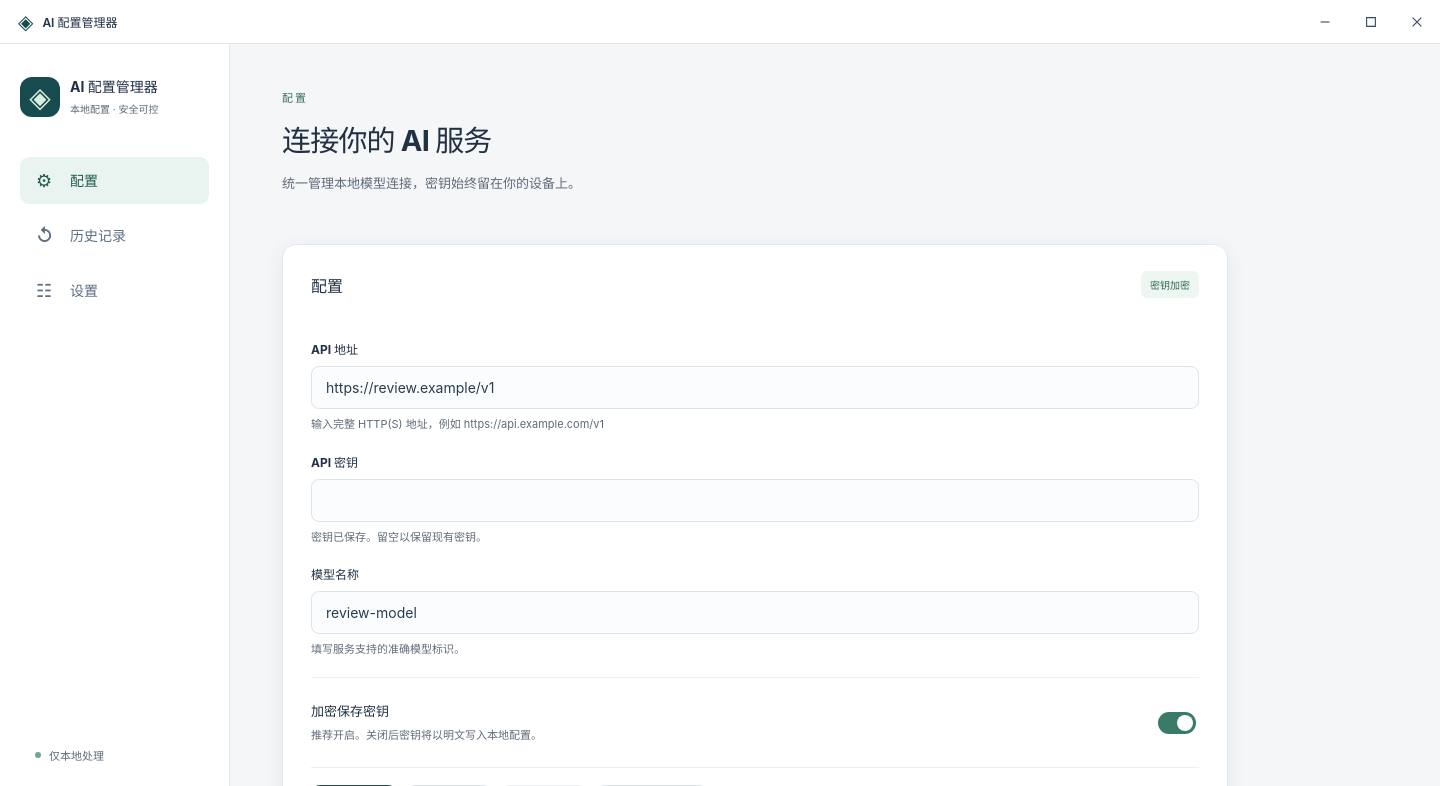
Settings page inventory › previews language immediately without saving and restores the saved language only after confirmed cancel
expect the field showing "https://review.example/v1" is shown: met, box [311,366,1199,409]
Step 1. Click the button "☷ 设置" → (114, 290), box [20,267,209,314]
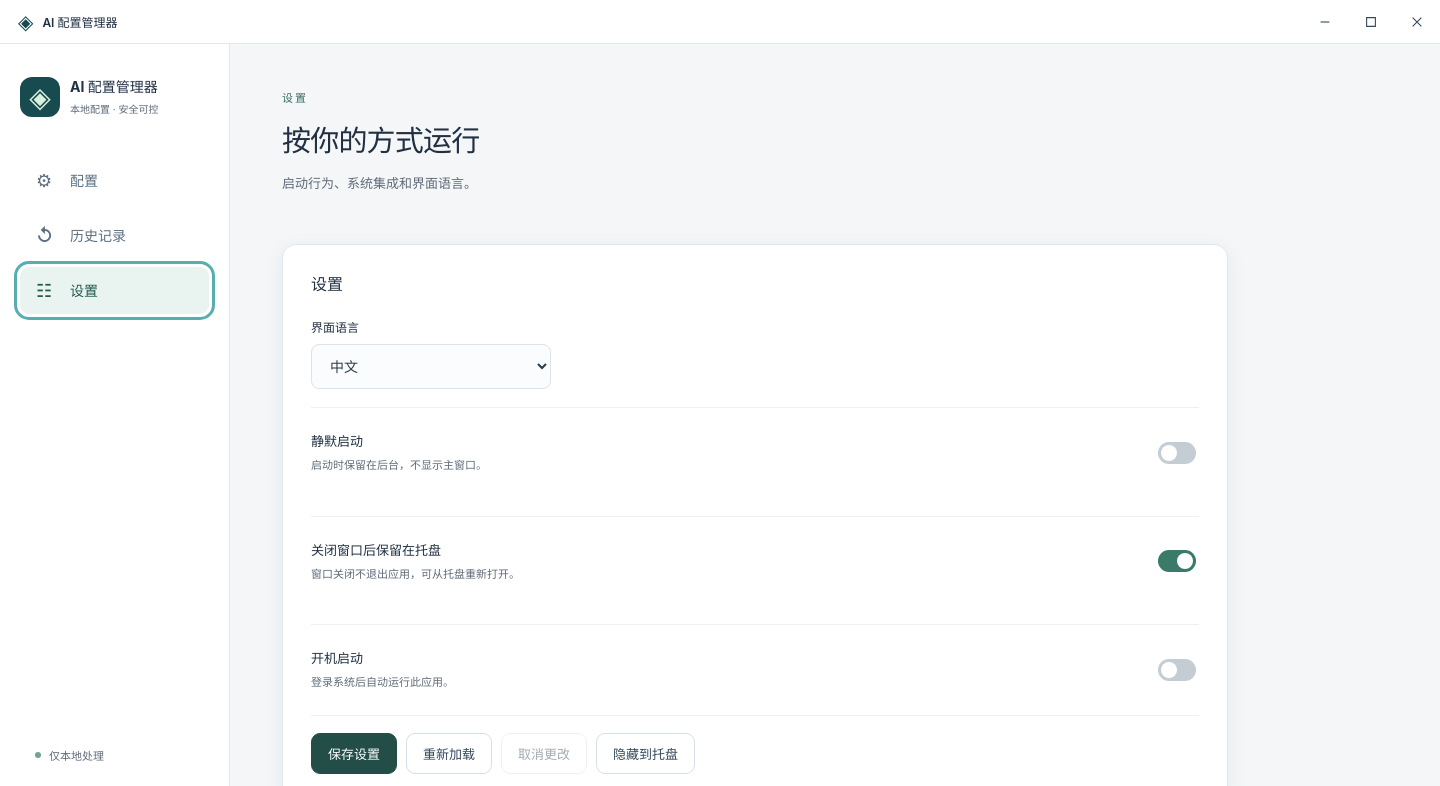
expect the dropdown labelled "界面语言" is shown: met
Step 2. Select "English" in the dropdown labelled "界面语言" → (431, 367), box [311,344,551,389]
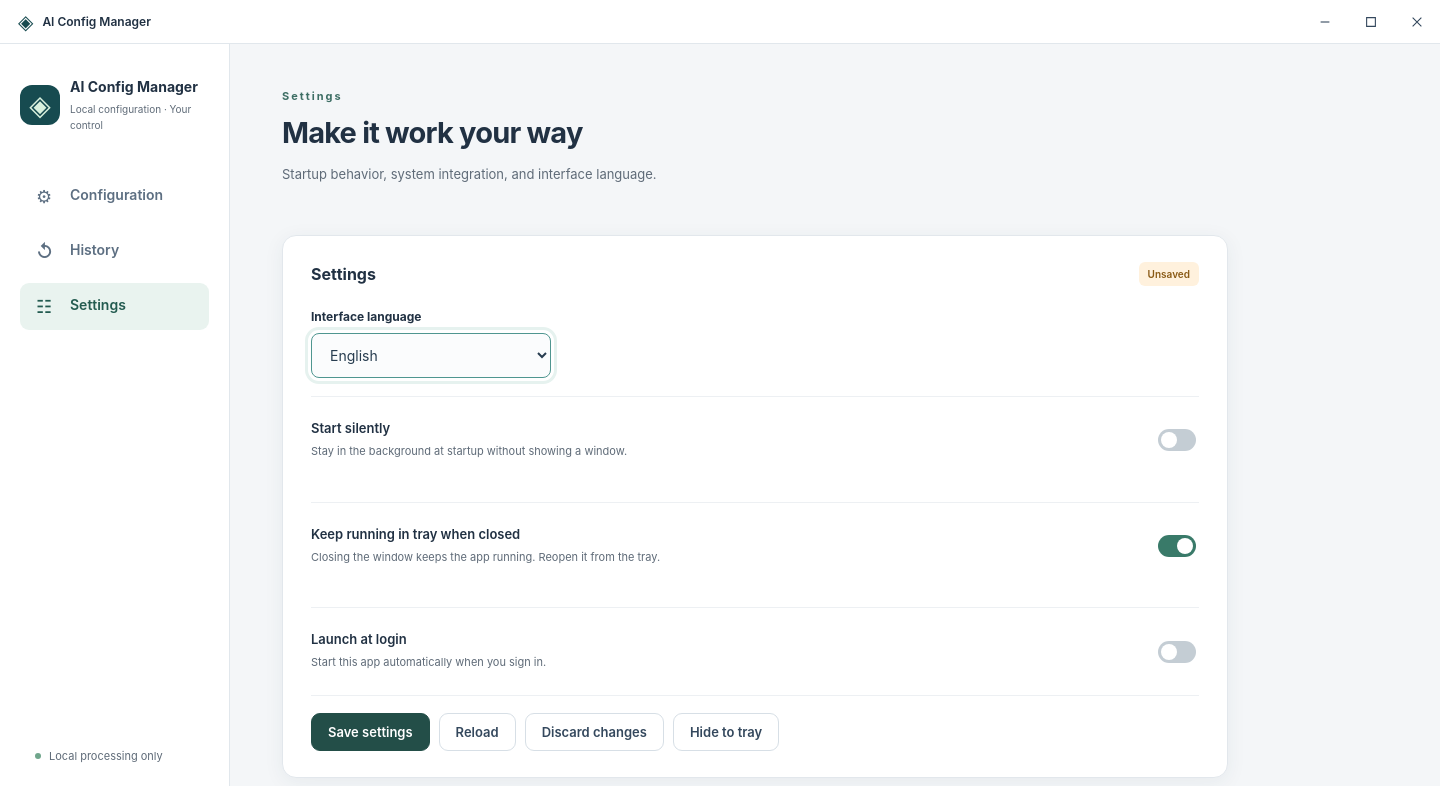
expect the heading "Make it work your way" is shown: met, box [282,115,582,150]
expect the text "Settings" is shown: met, box [282,89,343,103]
expect the button "☷ Settings" is shown: met, box [20,283,209,330]
Step 3. Click the button "Discard changes" → (594, 732), box [525,713,664,751]
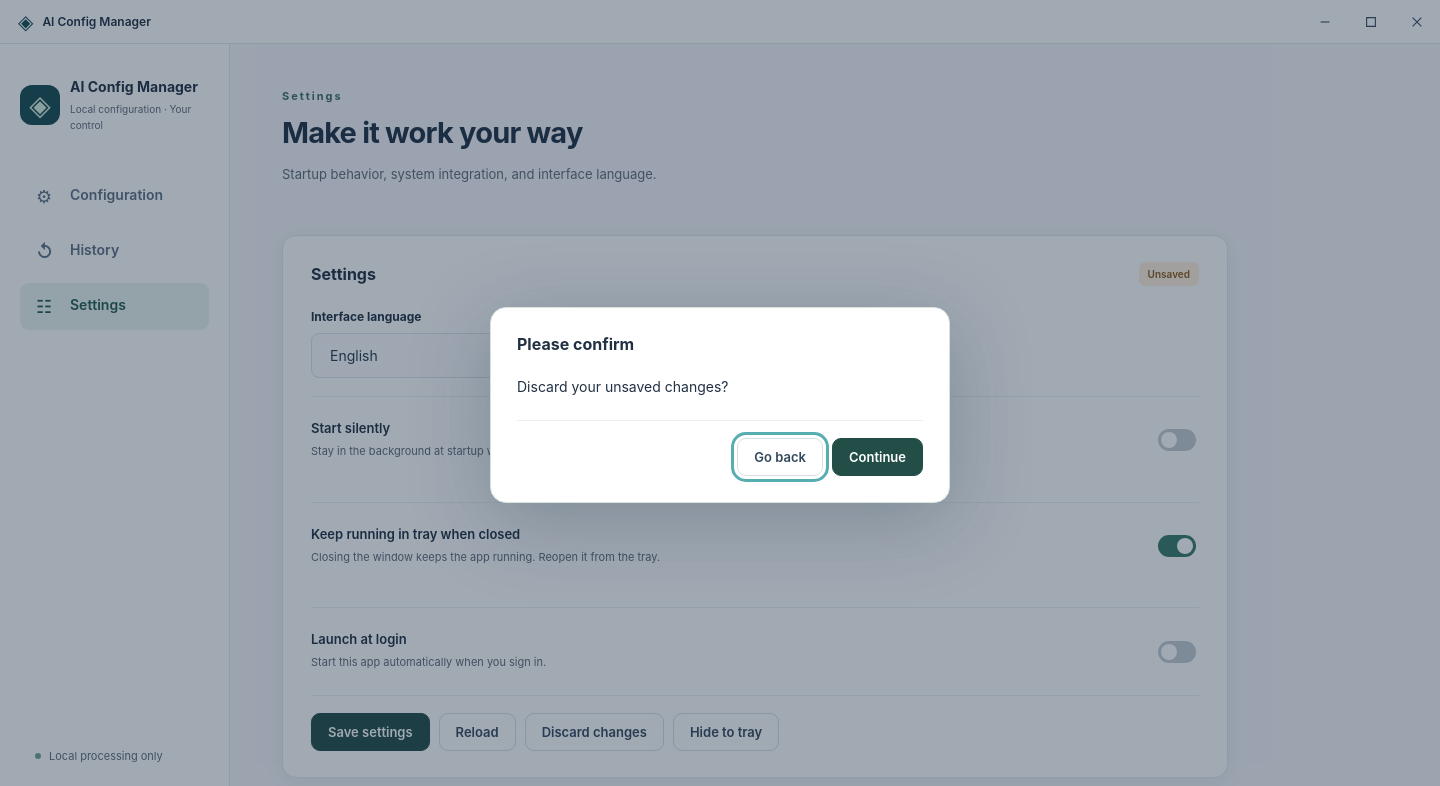
expect the dialog shows "Discard your unsaved changes?": met, box [517,378,728,395]
Step 4. Click the button "Go back" → (780, 457), box [737,438,823,476]
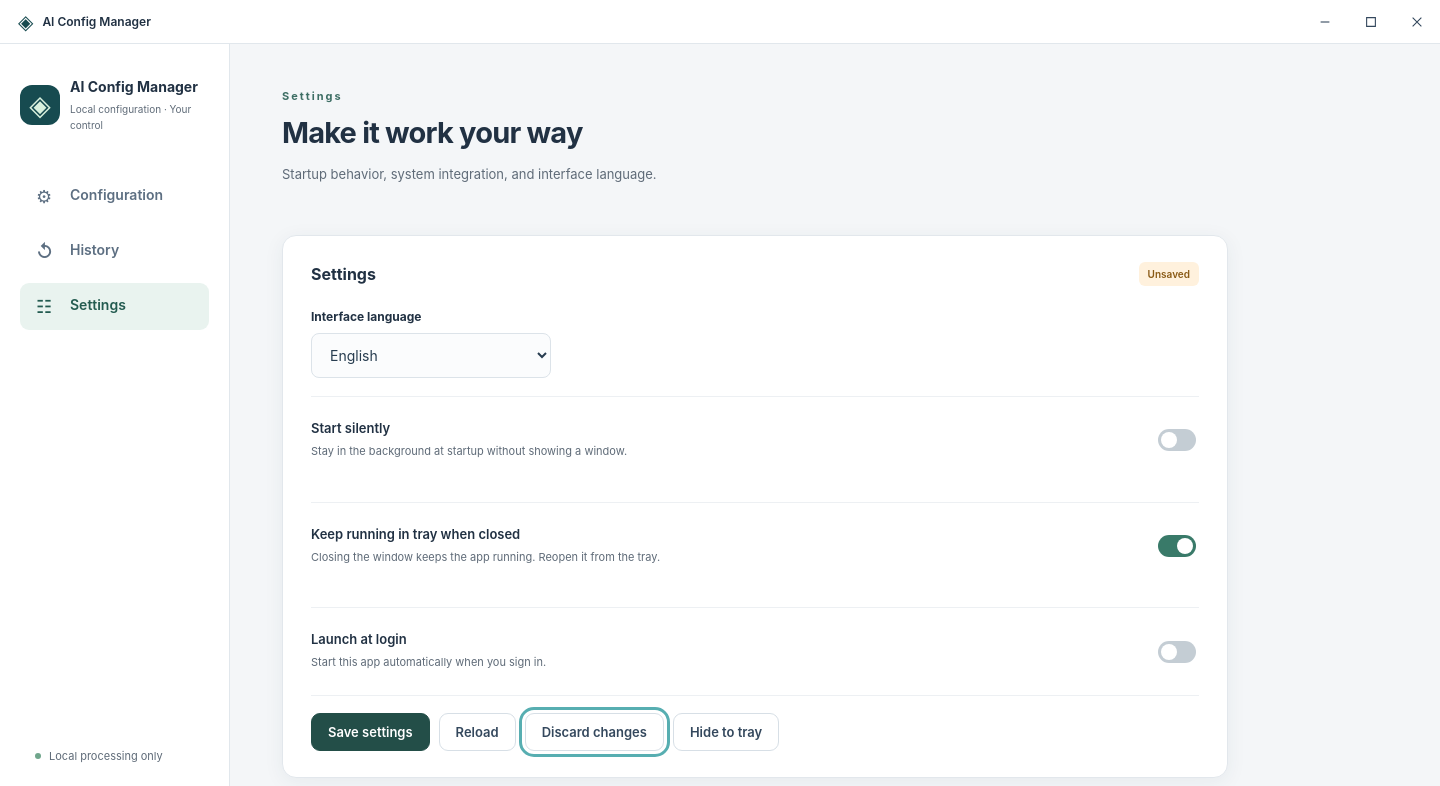
expect the dialog is gone: met
Step 5. Click the button "Discard changes" → (594, 732), box [525,713,664,751]
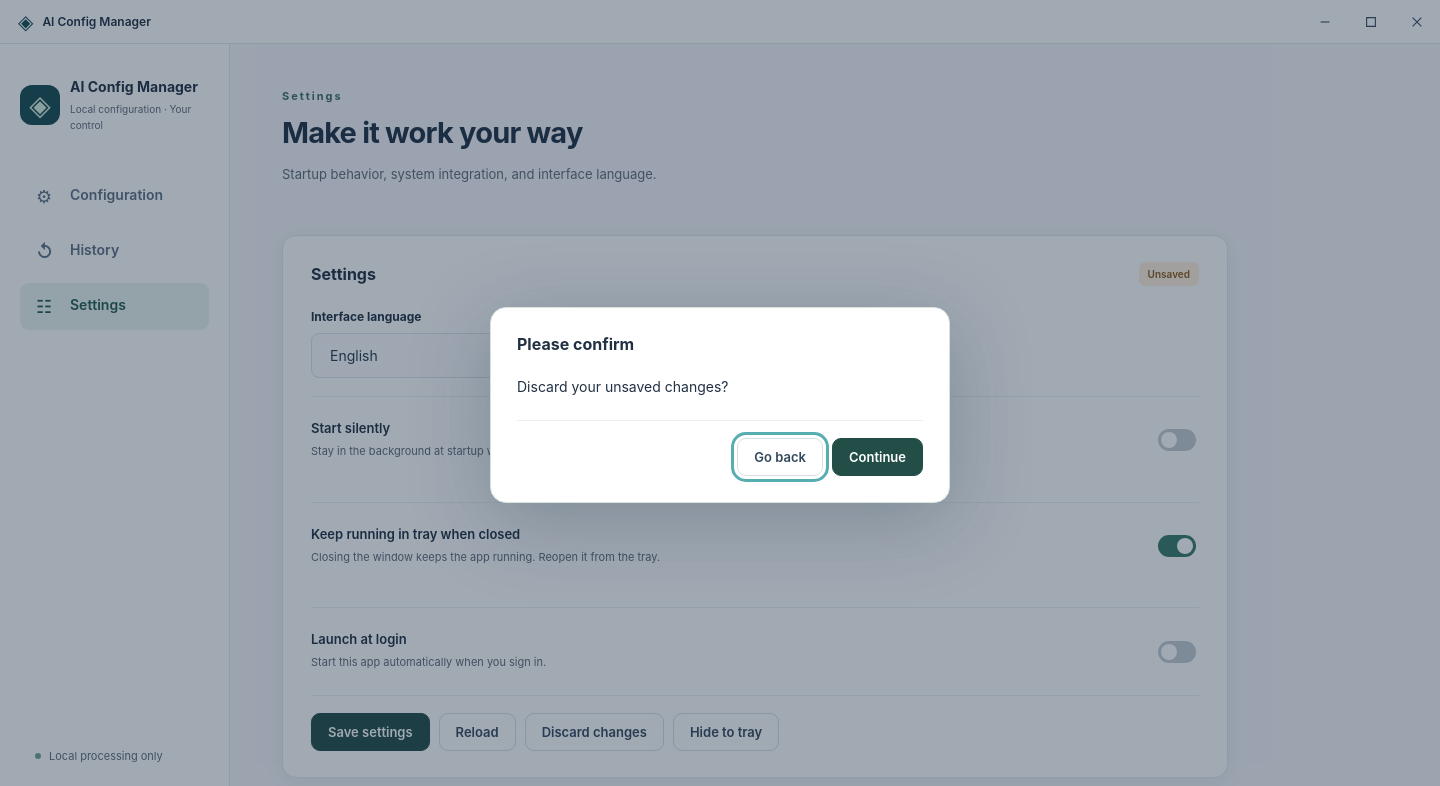
Step 6. Click the button "Continue" → (878, 457), box [832,438,923,476]
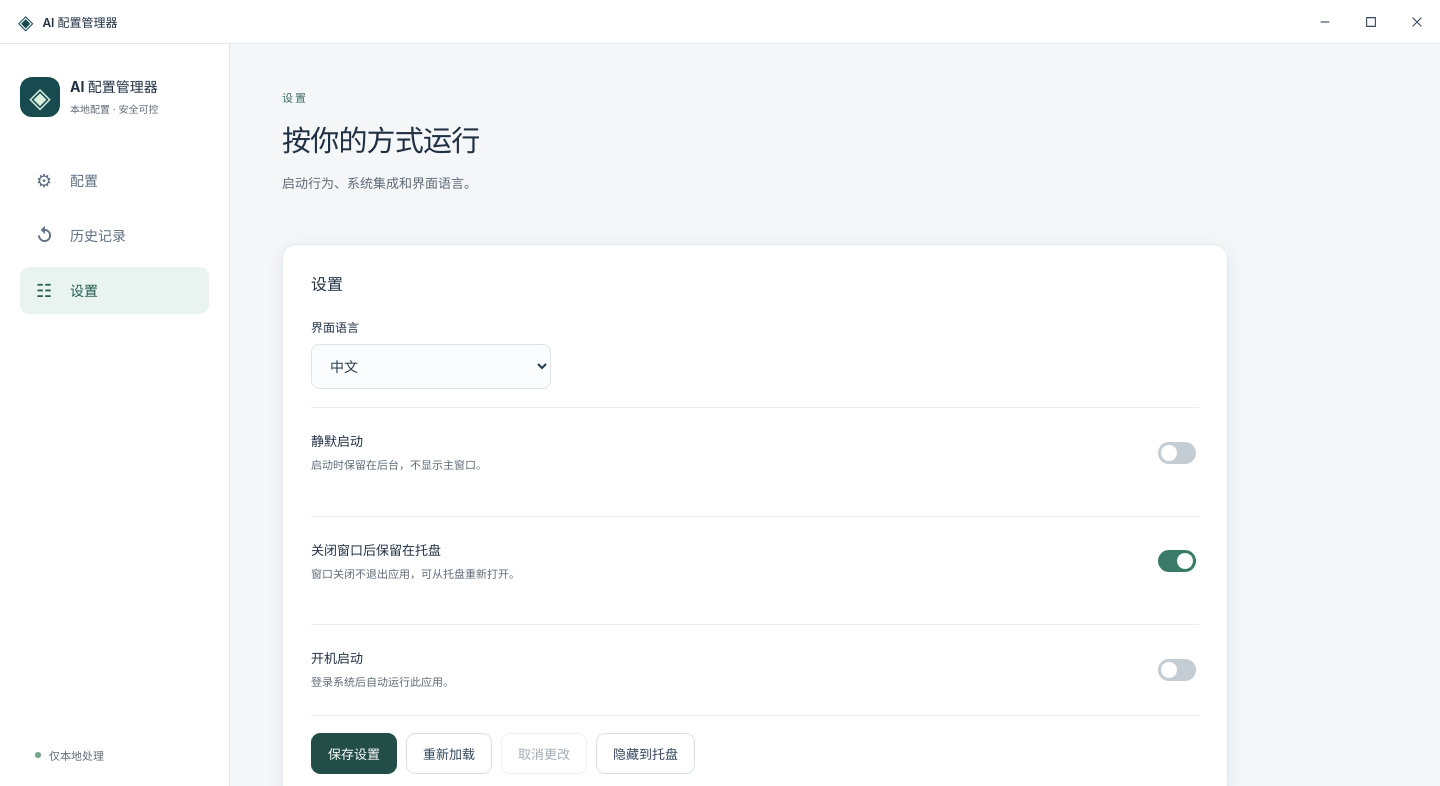
expect the button "取消更改" is disabled: met, box [501,733,587,774]
